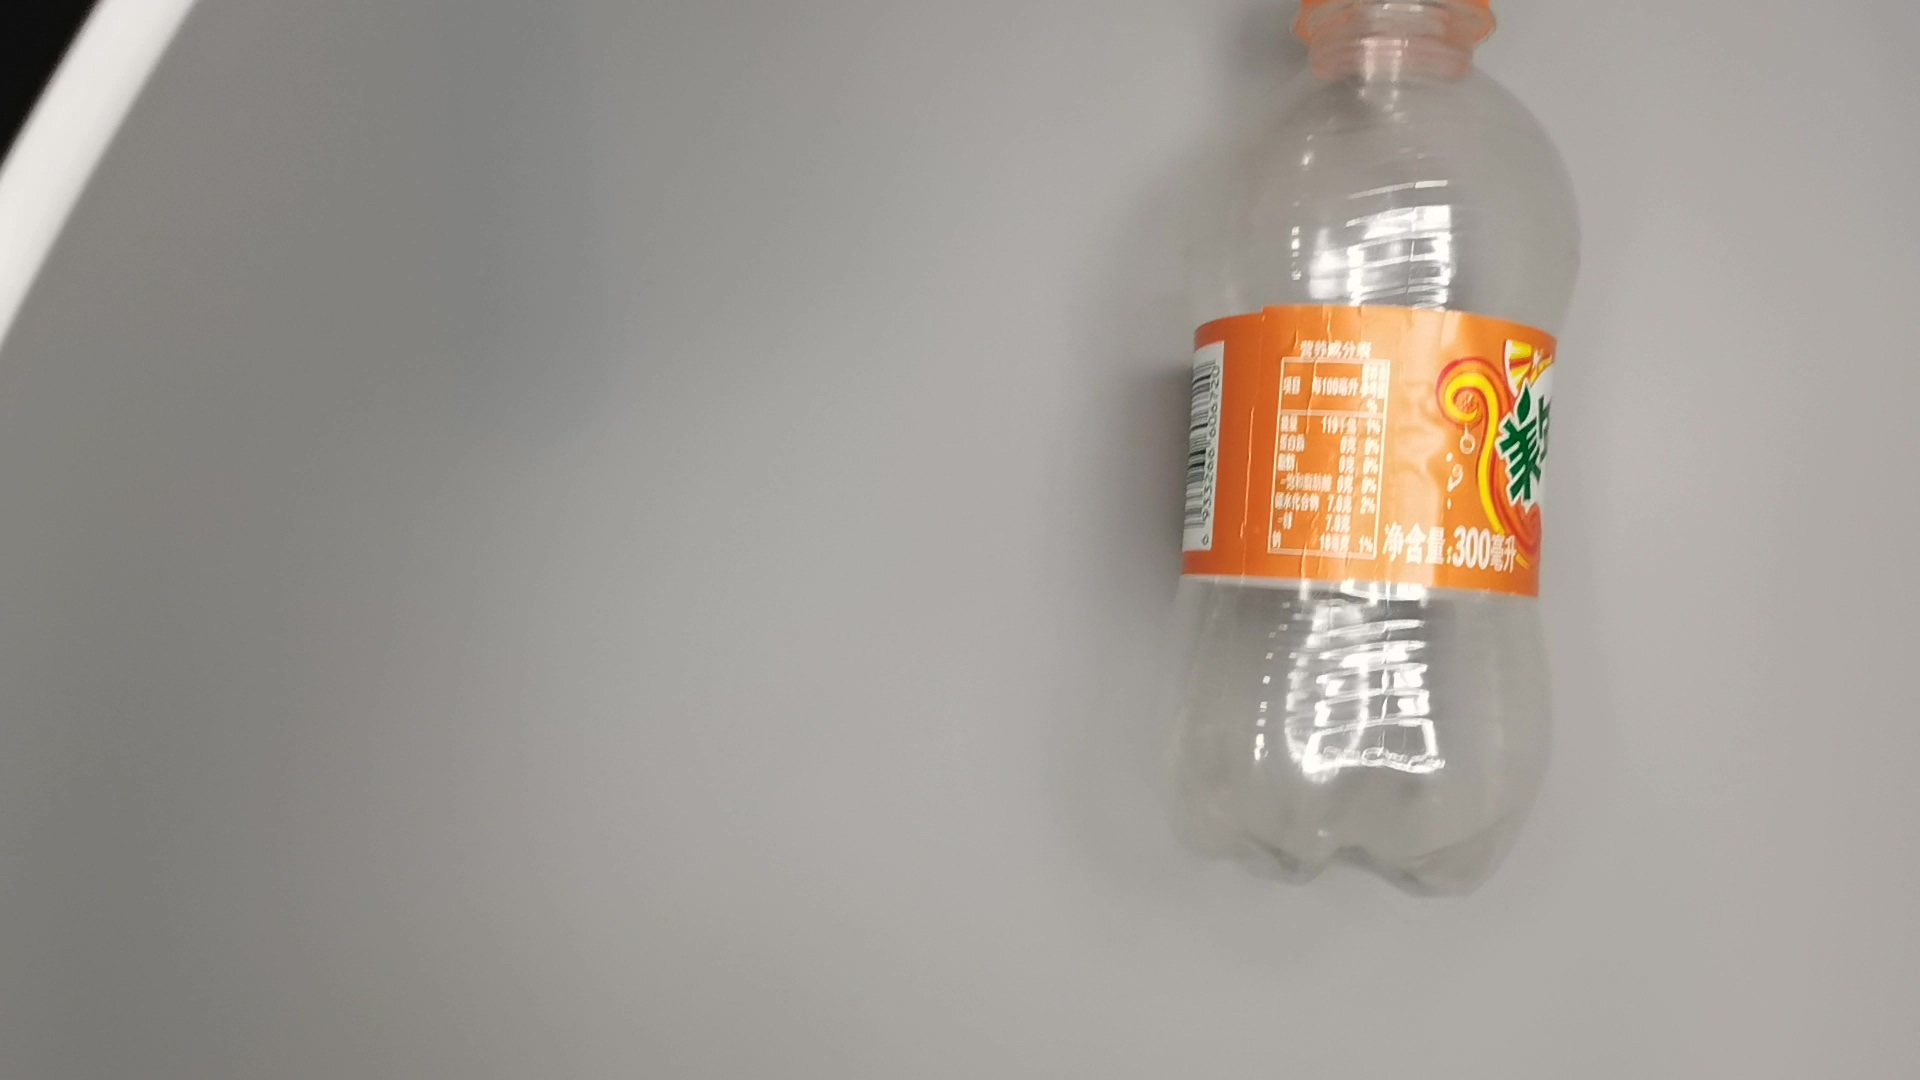bottle: (1143, 1, 1600, 913)
